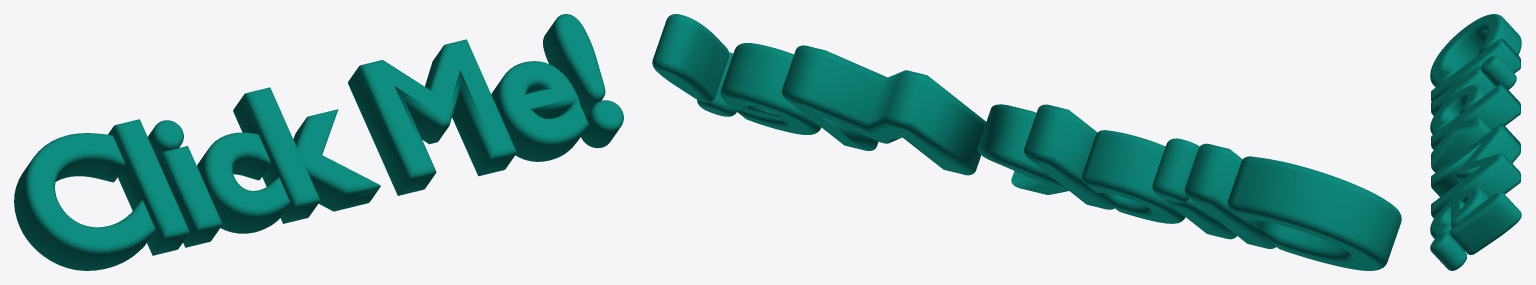
Rendered from click-me.gltf.
3 renders of one model, left to right at view 1: azimuth 30°, elevation 25°; view 2: azimuth 150°, elevation 25°; view 3: azimuth 270°, elevation 25°, orthographic. The views are drawn at different scales.
Parts seen in each view (by area): view 1: Text; view 2: Text; view 3: Text.
Part boxes in pixels (bbox=[...]): Text: bbox=[14, 14, 623, 270]; Text: bbox=[652, 14, 1401, 270]; Text: bbox=[1430, 14, 1521, 270].
Size of the model in its own units: 4.6 by 0.8197 by 0.8938.
